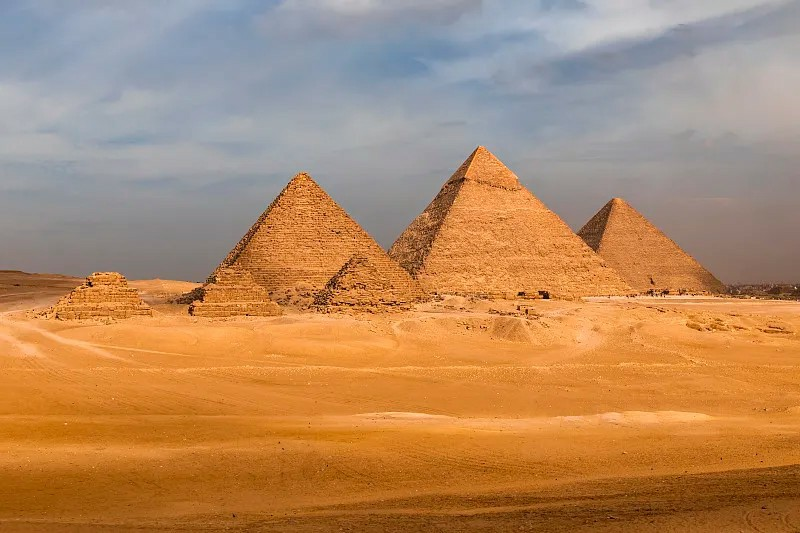Pyramid: (388, 144, 641, 298), (181, 172, 434, 305), (577, 198, 731, 297), (307, 251, 417, 313), (188, 263, 286, 315), (47, 270, 153, 318)
